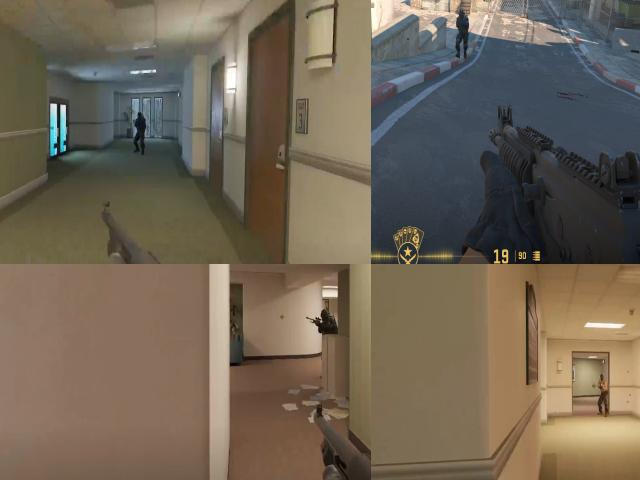CT: (132, 108, 148, 156), (317, 310, 339, 336), (456, 10, 468, 48)
CT-Head: (320, 310, 332, 323), (136, 110, 144, 121), (459, 11, 464, 18)
T: (596, 369, 609, 410)
T-Head: (598, 372, 606, 385)
